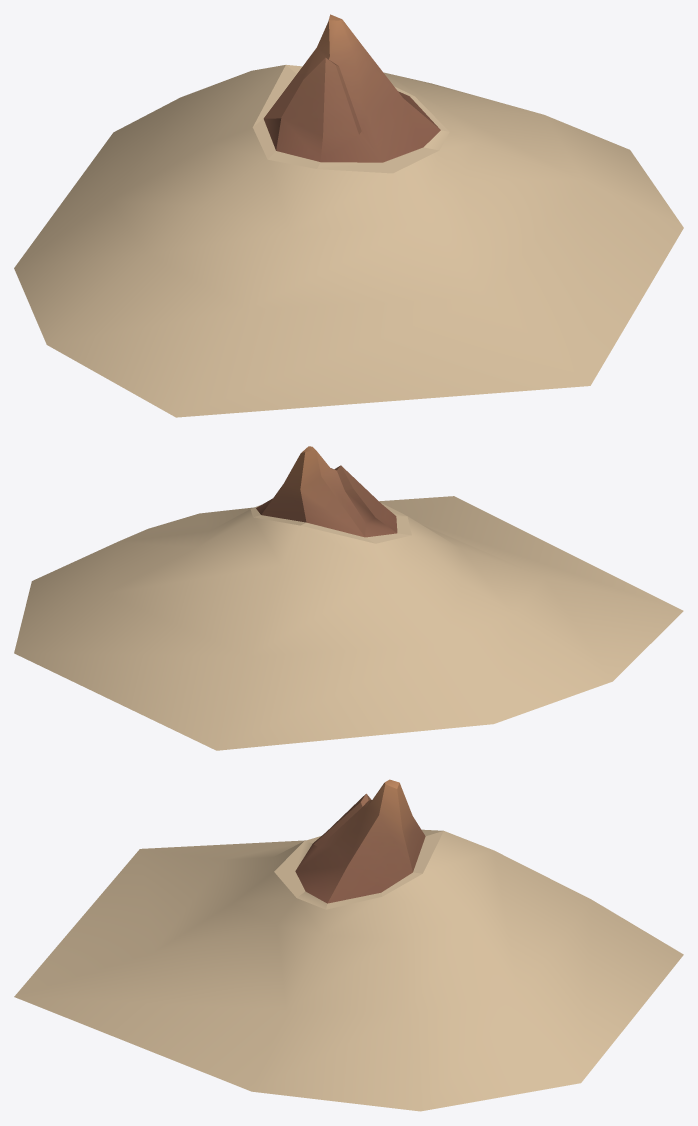
Rendered from roche_sable.FBX.
The picture shows the model from 3 angles, top to bottom: view 1: azimuth 30°, elevation 25°; view 2: azimuth 150°, elevation 25°; view 3: azimuth 270°, elevation 25°; orthographic projection. The views are drawn at different scales.
Parts seen in each view (by area): view 1: roche_sable; view 2: roche_sable; view 3: roche_sable.
Part boxes in pixels (box(x1,y1,x2,y2)): roche_sable: box(14, 14, 683, 417); roche_sable: box(14, 446, 683, 750); roche_sable: box(14, 779, 683, 1111).
Bounding box in the file's own units: 56.76 × 18.97 × 58.66.
